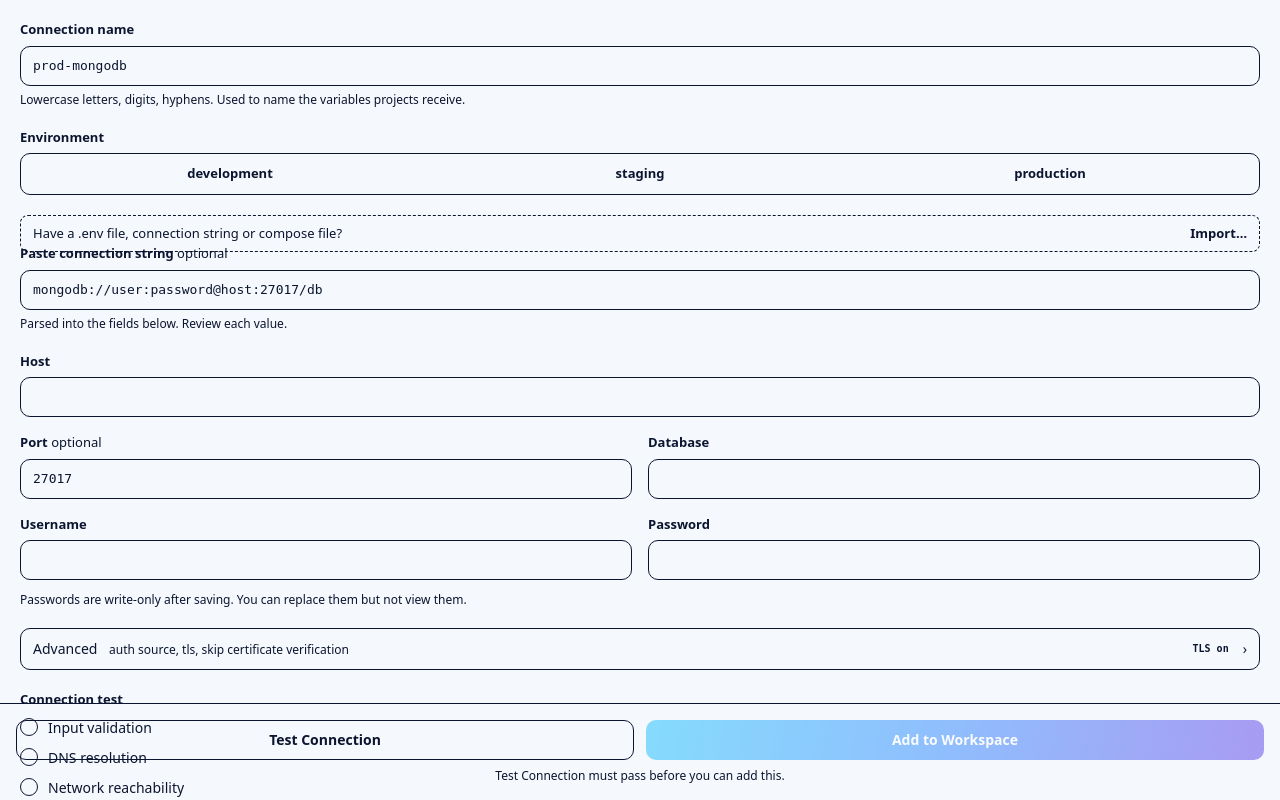
it: ConnectTab form › editing any field after a pass disables Add again
Type "prod-orders-db" into the field labelled "Connection name" at (640, 66), box [20, 46, 1260, 86]
Type "orders.k3x9p.mongodb.net" into the field labelled "Host" at (640, 397), box [20, 377, 1260, 417]
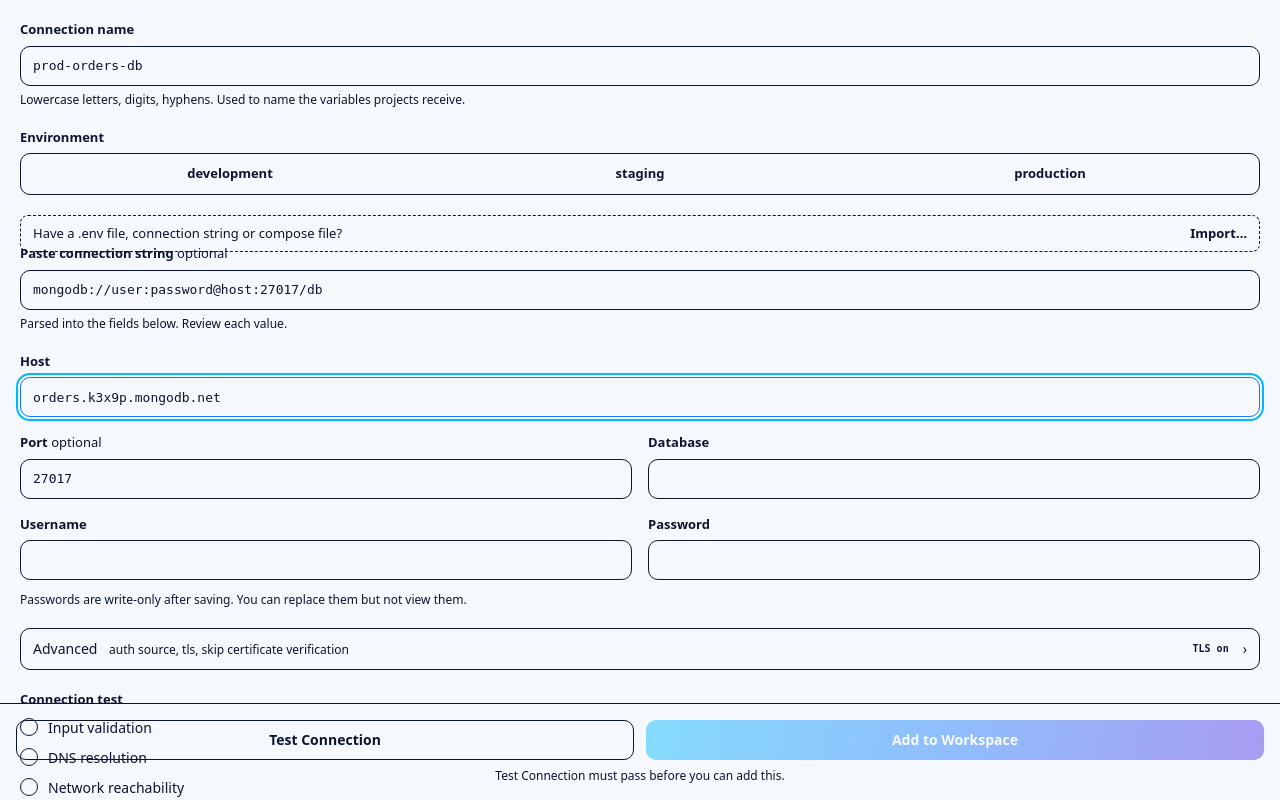
Type "orders" into the field labelled "Database" at (954, 478), box [648, 458, 1260, 498]
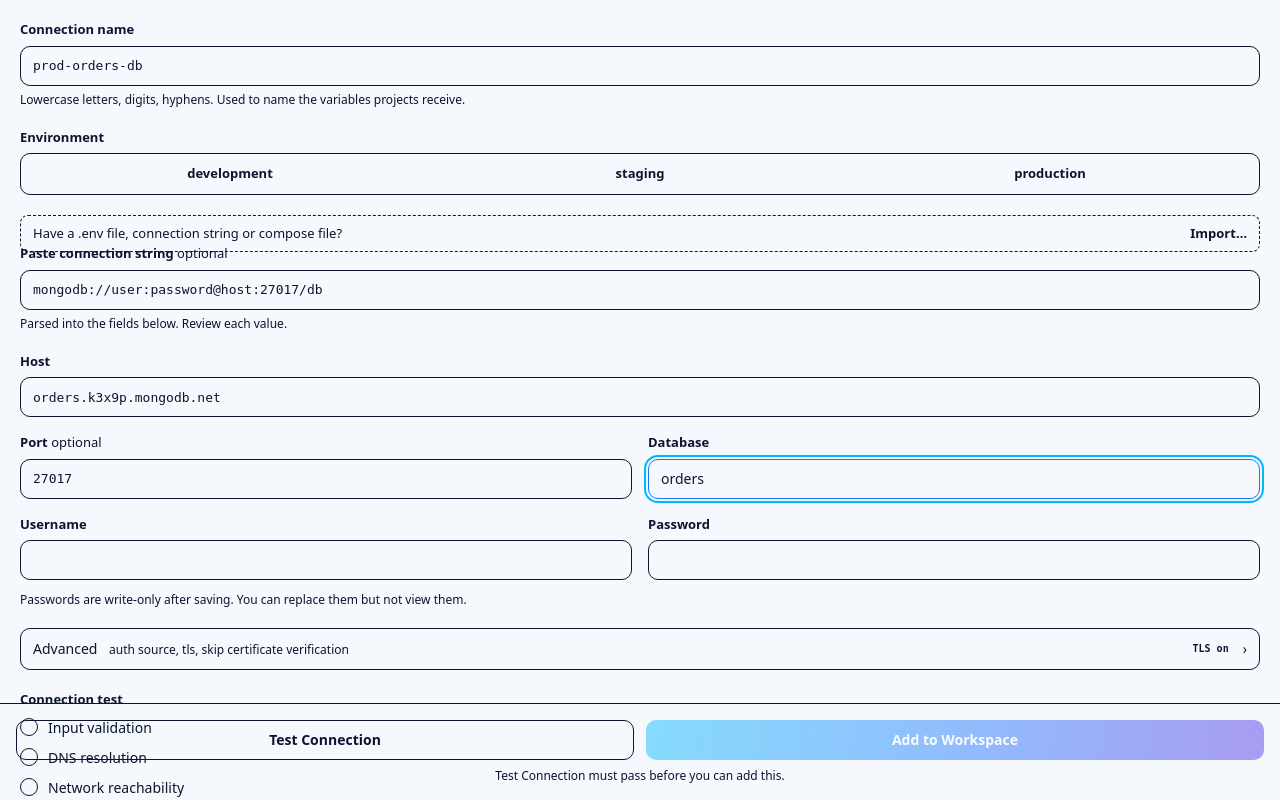
Type "orders_app" into the field labelled "Username" at (326, 560), box [20, 540, 632, 580]
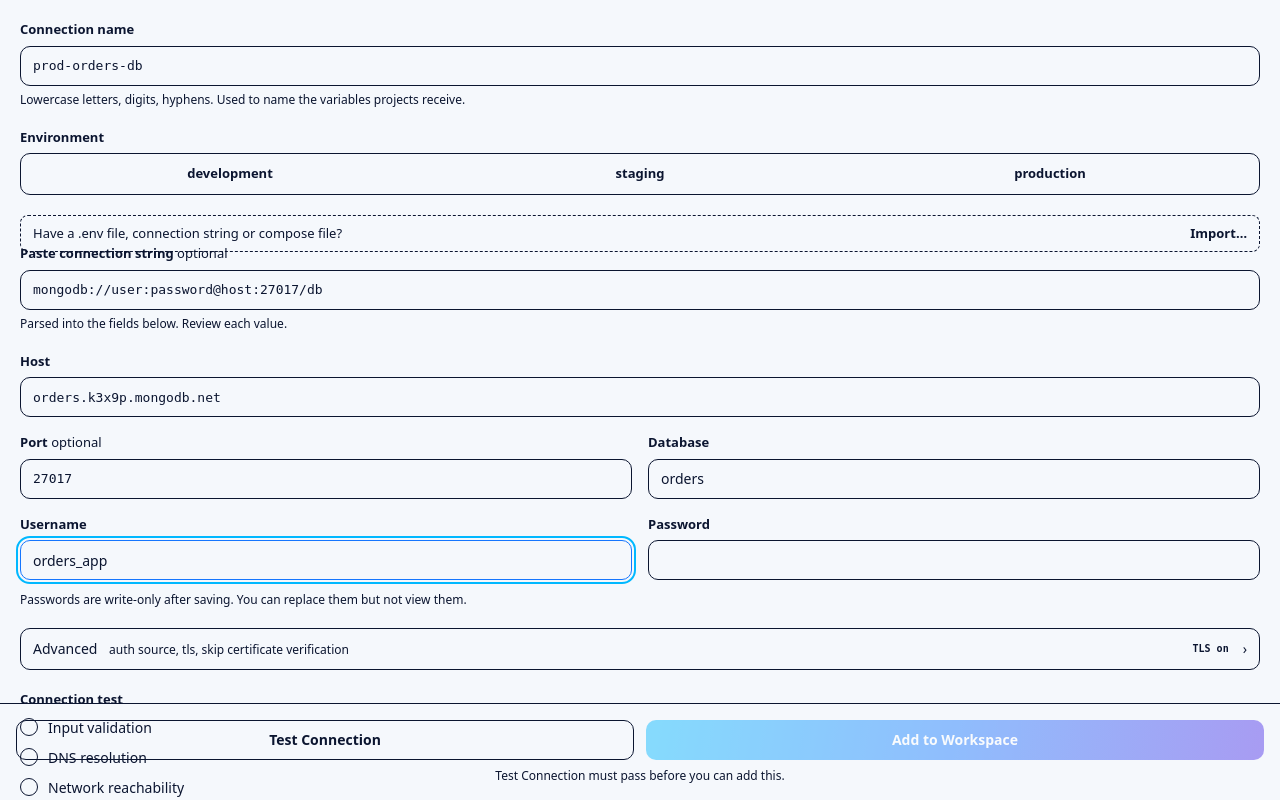
Type "S3cretPassw0rd" into the password field labelled "Password" at (954, 560), box [648, 540, 1260, 580]
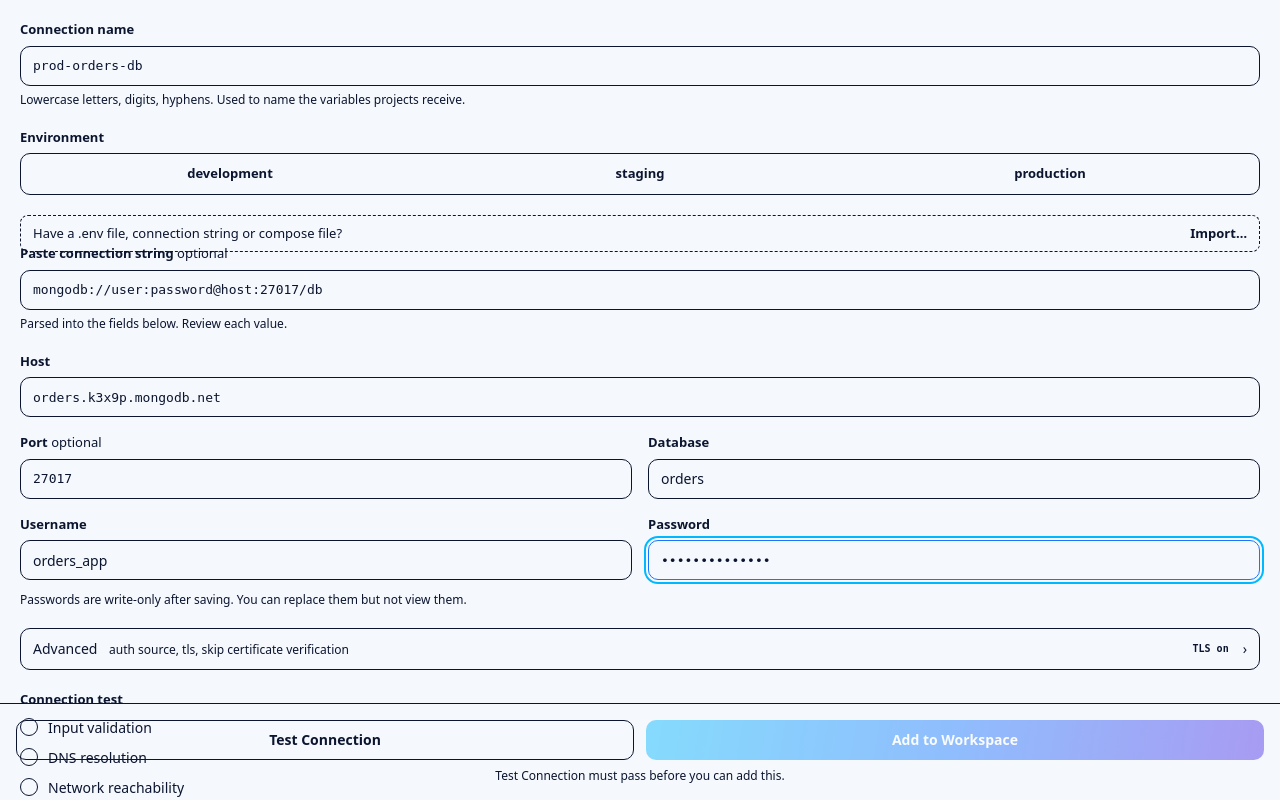
Click the button "Test Connection" at (325, 740), box [16, 720, 634, 760]
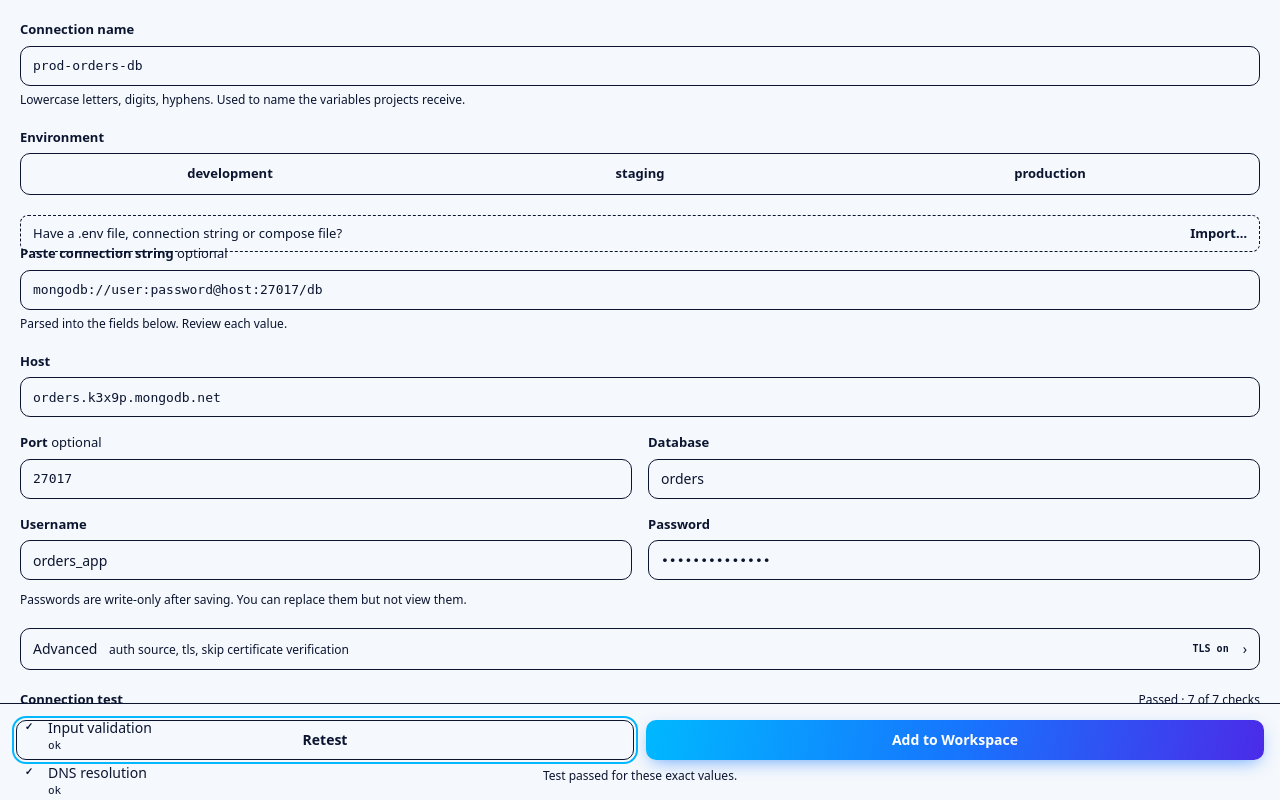
Now the button "Add to Workspace" is enabled, box [646, 720, 1264, 760]
Type "x" into the field labelled "Database" at (954, 478), box [648, 458, 1260, 498]
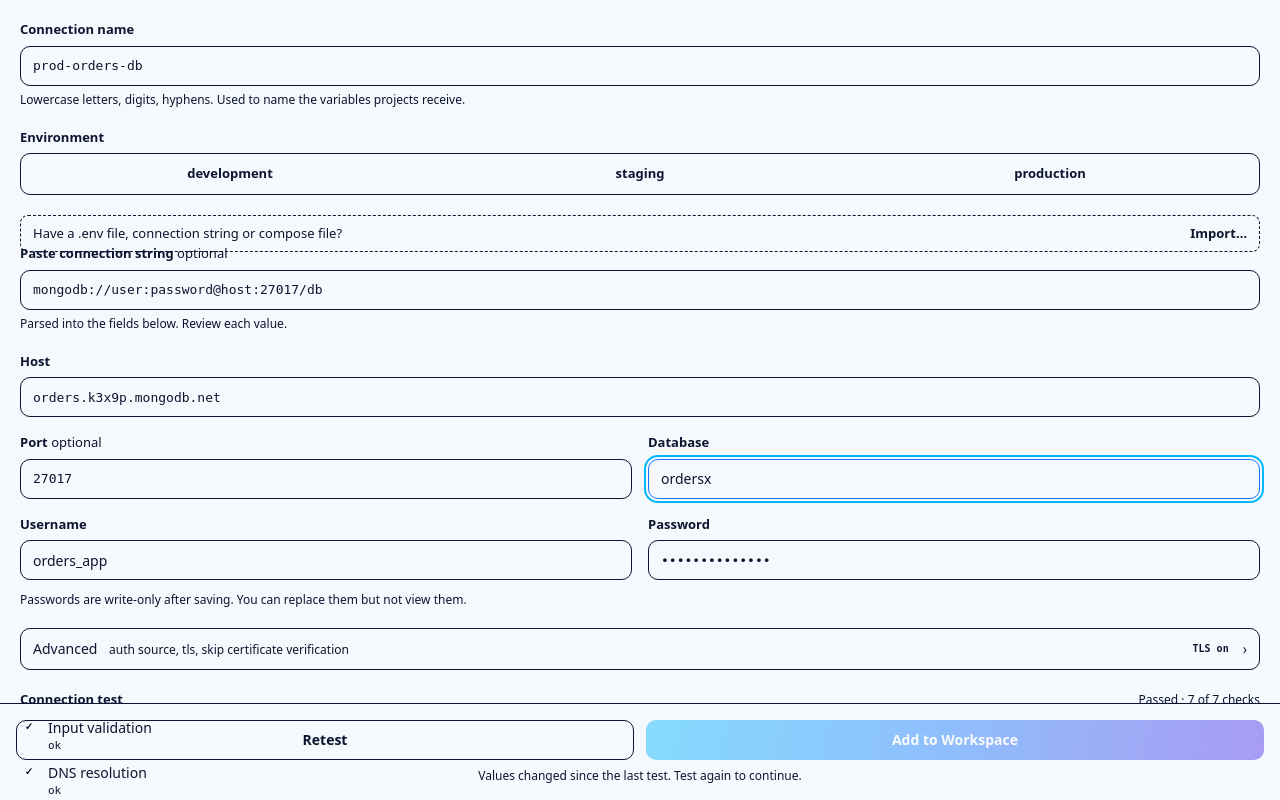
Now the text "Values changed since the last test. Test again to continue." is shown, box [478, 767, 802, 784]
